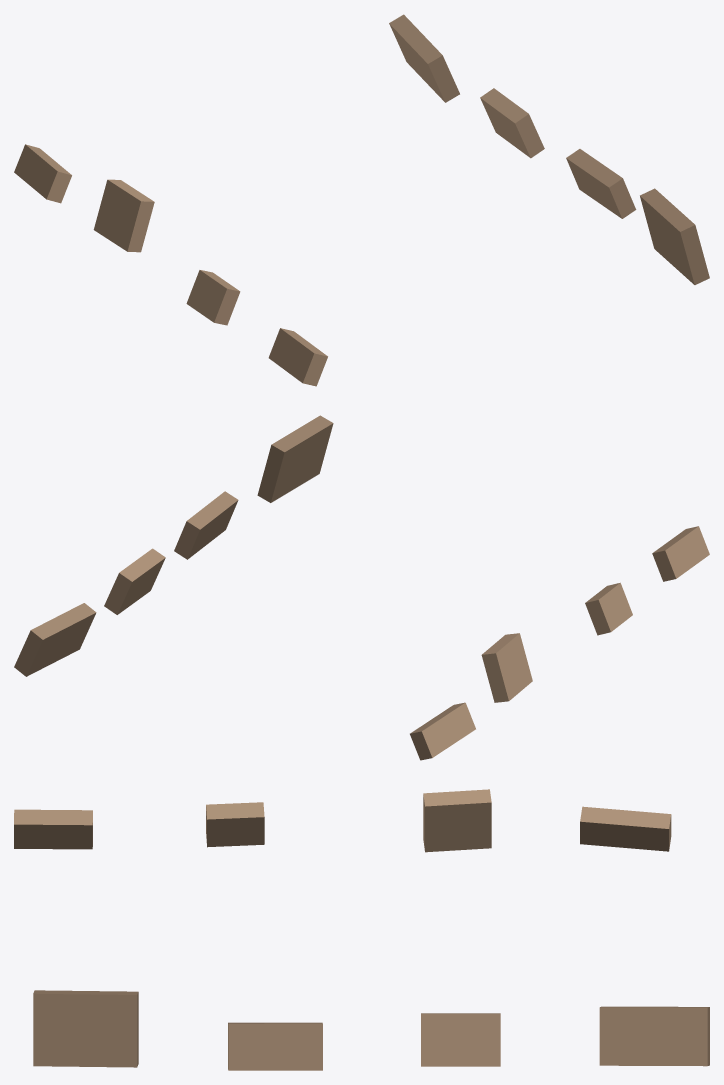
Rendered from gallery_wash_detail1.glb.
The picture shows the model from 3 angles, top to bottom: view 1: azimuth 30°, elevation 25°; view 2: azimuth 150°, elevation 25°; view 3: azimuth 270°, elevation 25°; orthographic projection. The views are drawn at different scales.
Parts seen in each view (by area): view 1: gallery_wash_detail1; view 2: gallery_wash_detail1; view 3: gallery_wash_detail1.
Part boxes in pixels (left/top/right/bottom): gallery_wash_detail1: left=14, top=14, right=709, bottom=386; gallery_wash_detail1: left=14, top=415, right=709, bottom=760; gallery_wash_detail1: left=14, top=789, right=709, bottom=1070.
Size of the model in its own units: 34.44 by 4.88 by 42.21.
